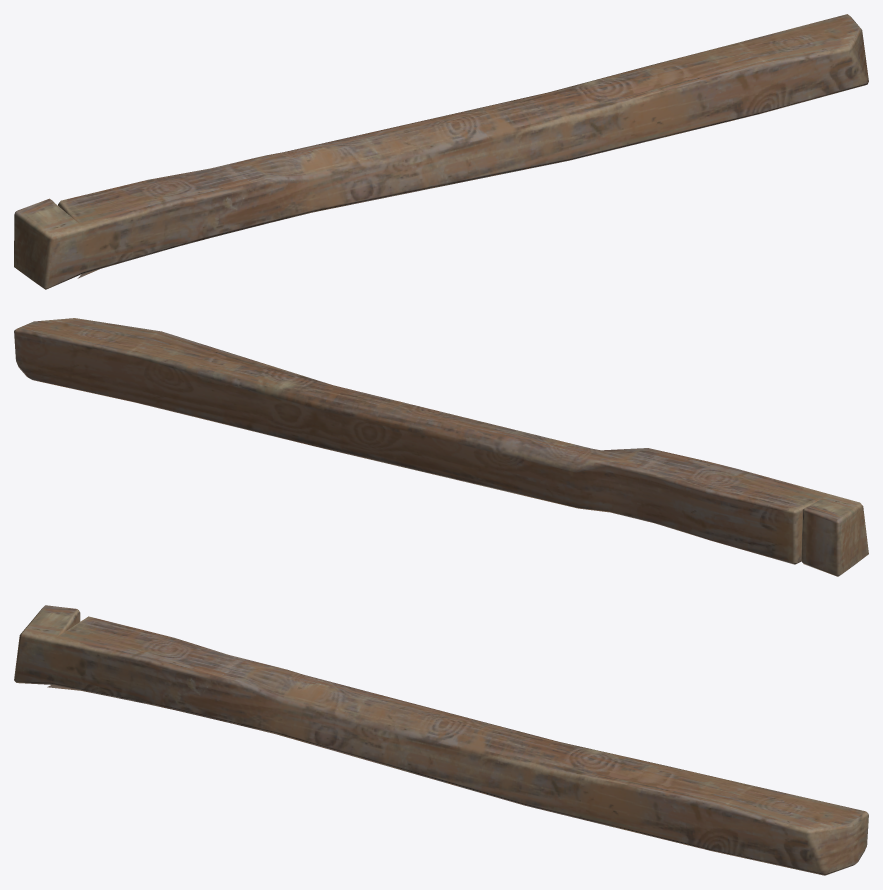
Rendered from SM_post_03.gltf.
3 views of the same model, one above another, from view 1: azimuth 30°, elevation 25°; view 2: azimuth 150°, elevation 25°; view 3: azimuth 330°, elevation 25° (orthographic).
Visible parts, largest first — view 1: SM_post_03; view 2: SM_post_03; view 3: SM_post_03.
Boxes of the visible parts, <box> form: SM_post_03: <box>14,14,868,289</box>; SM_post_03: <box>14,318,868,576</box>; SM_post_03: <box>14,605,868,875</box>.
Bounding box in the file's own units: 1.5 × 0.1069 × 0.1146.
Materials: 1 (1 with a texture image).
